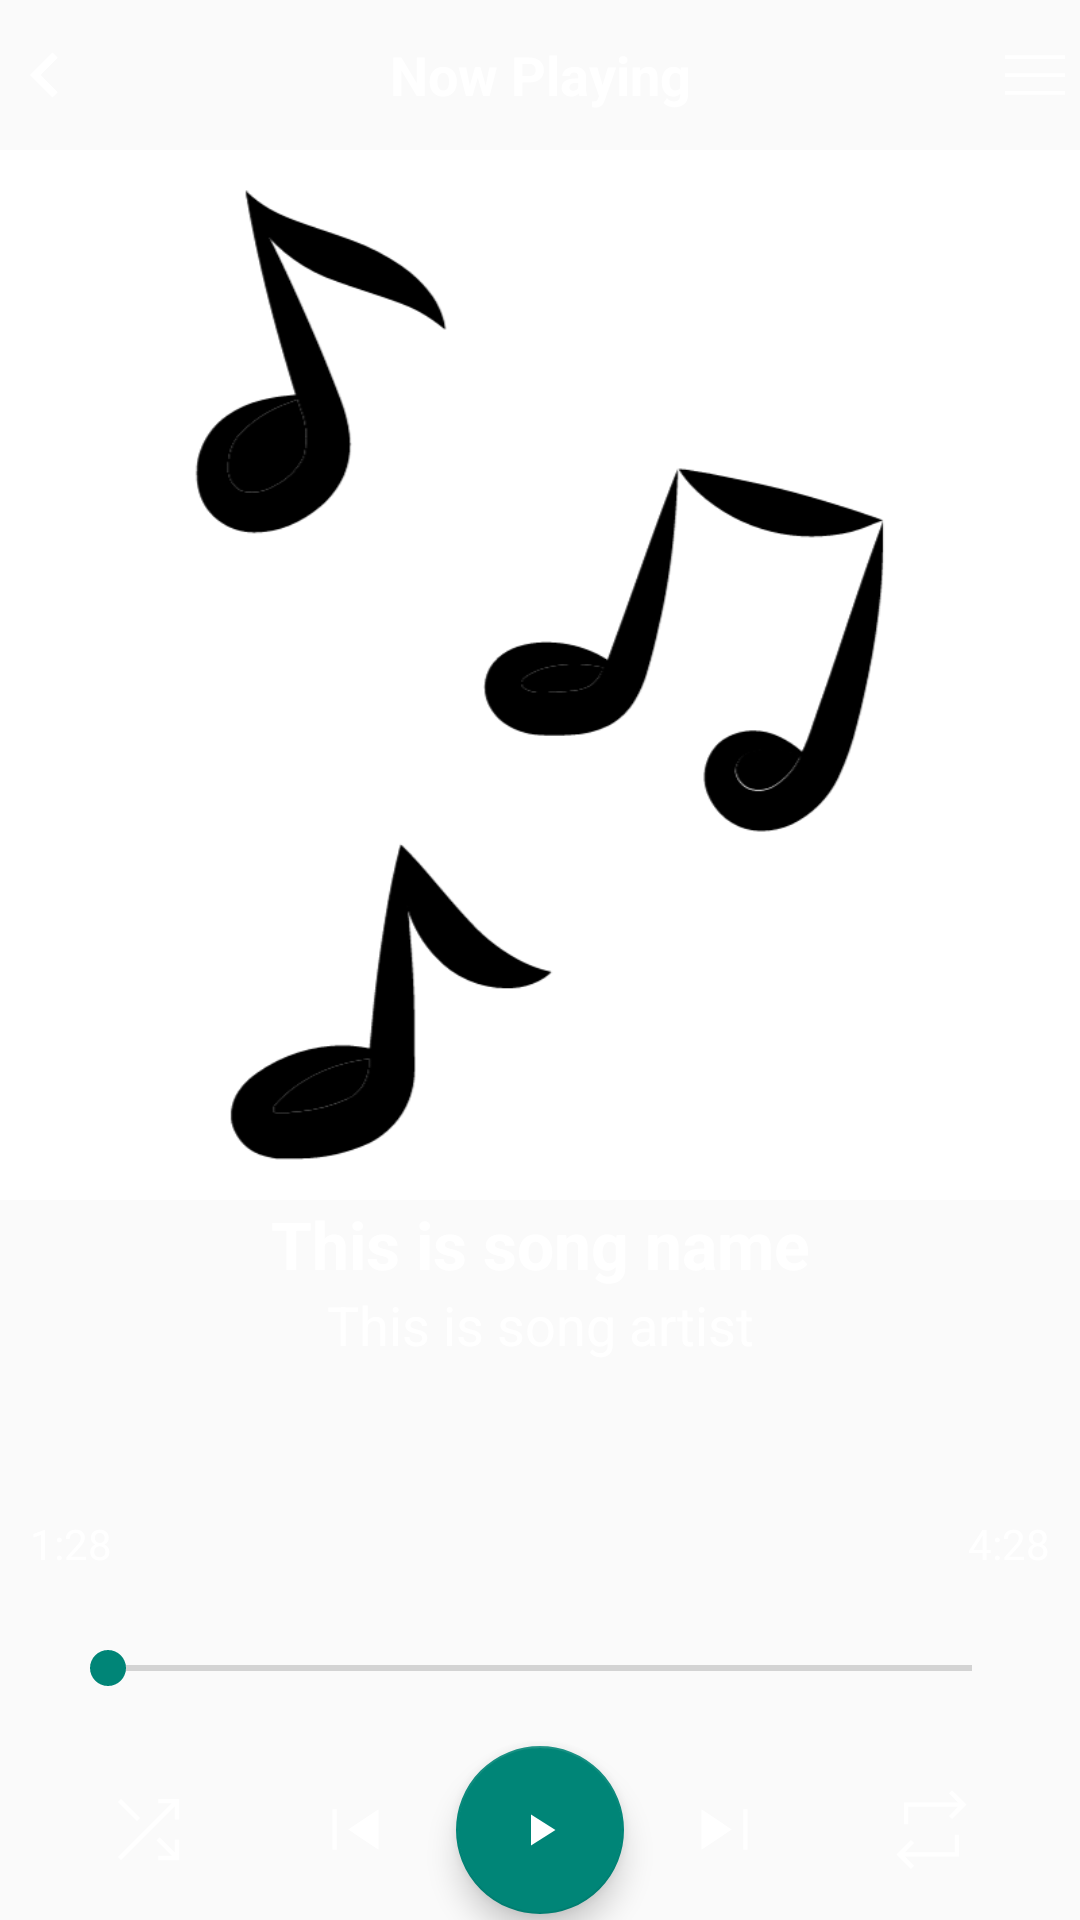

Screen size 1080*1920. Icon name, then its center in pixels as (x=x, y=y):
play: (x=540, y=1830)
